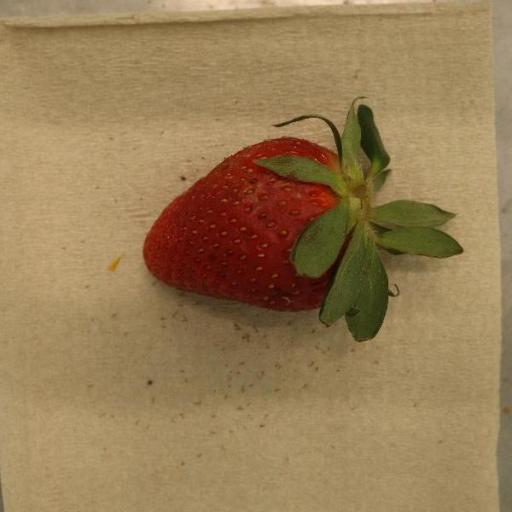Strawberry: (143, 103, 465, 343)
